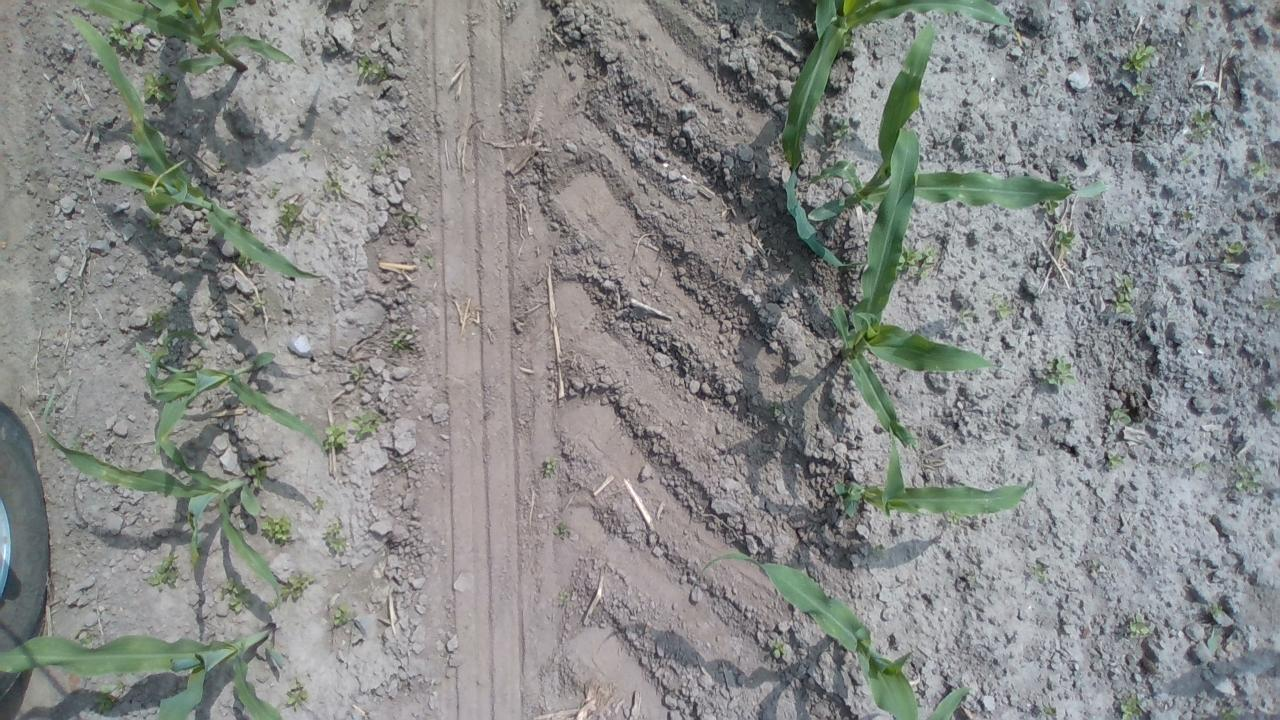Maize: (55, 12, 352, 302), (780, 22, 1110, 278), (824, 117, 1005, 452), (685, 544, 989, 720), (31, 426, 316, 613), (3, 609, 317, 720), (110, 334, 338, 455), (832, 432, 1034, 532), (72, 0, 304, 84), (806, 1, 1018, 42)
Weeds: (345, 41, 395, 89), (1117, 44, 1161, 98), (266, 566, 320, 604), (146, 548, 188, 592), (138, 69, 184, 109), (1202, 602, 1232, 658), (275, 196, 314, 237), (105, 22, 154, 54), (1109, 272, 1143, 318), (217, 577, 258, 615), (262, 513, 300, 552), (320, 518, 352, 564), (1040, 358, 1080, 393), (896, 244, 936, 278), (1230, 463, 1266, 500), (278, 676, 310, 712), (374, 138, 402, 176), (988, 294, 1022, 324), (1112, 694, 1151, 720), (390, 324, 420, 357), (1189, 106, 1218, 140), (333, 607, 368, 635), (322, 424, 356, 450), (1246, 154, 1274, 184), (322, 164, 348, 196), (1124, 614, 1151, 643), (762, 632, 788, 662), (1052, 228, 1080, 255), (354, 412, 384, 437), (1098, 449, 1130, 472), (93, 685, 120, 712), (1025, 560, 1051, 588), (144, 312, 172, 338), (343, 362, 370, 387), (537, 456, 559, 484), (399, 210, 428, 231), (1108, 406, 1132, 431), (550, 518, 572, 542), (1036, 700, 1062, 720), (1258, 293, 1280, 316), (1187, 454, 1206, 480), (1180, 206, 1202, 228), (831, 121, 850, 146), (1225, 242, 1243, 268), (1039, 199, 1065, 216), (1176, 151, 1197, 172), (147, 212, 166, 233), (1054, 173, 1076, 191), (1214, 704, 1242, 718), (555, 587, 572, 608), (1260, 396, 1280, 413), (768, 402, 786, 420), (416, 250, 434, 268), (1086, 552, 1100, 575), (312, 498, 329, 516), (966, 568, 979, 588), (296, 149, 313, 164)
